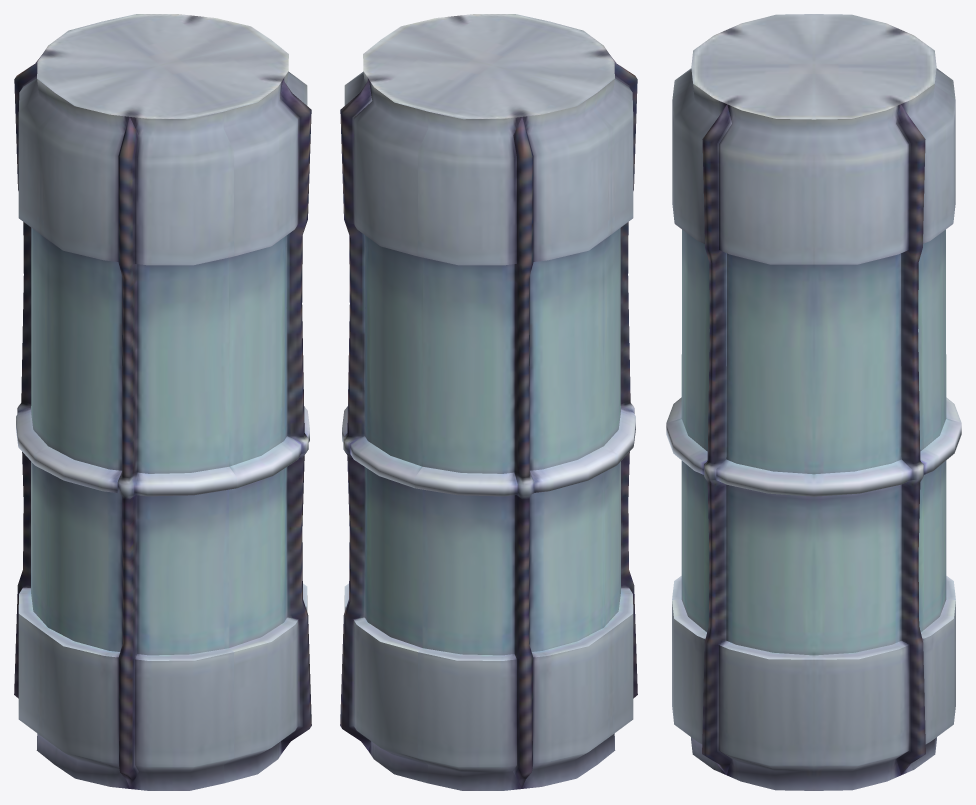
Rendered from Space_Hazard_Pusher.fbx.
3 renders of one model, left to right at view 1: azimuth 30°, elevation 25°; view 2: azimuth 150°, elevation 25°; view 3: azimuth 270°, elevation 25°, orthographic.
Visible parts, largest first — view 1: pCylinder11; view 2: pCylinder11; view 3: pCylinder11.
Boxes of the visible parts, x1,y1,x2,y2 form: pCylinder11: [14, 14, 311, 790]; pCylinder11: [340, 14, 637, 790]; pCylinder11: [666, 14, 961, 790].
Size of the model in its own units: 3.18 by 8.01 by 3.18.
